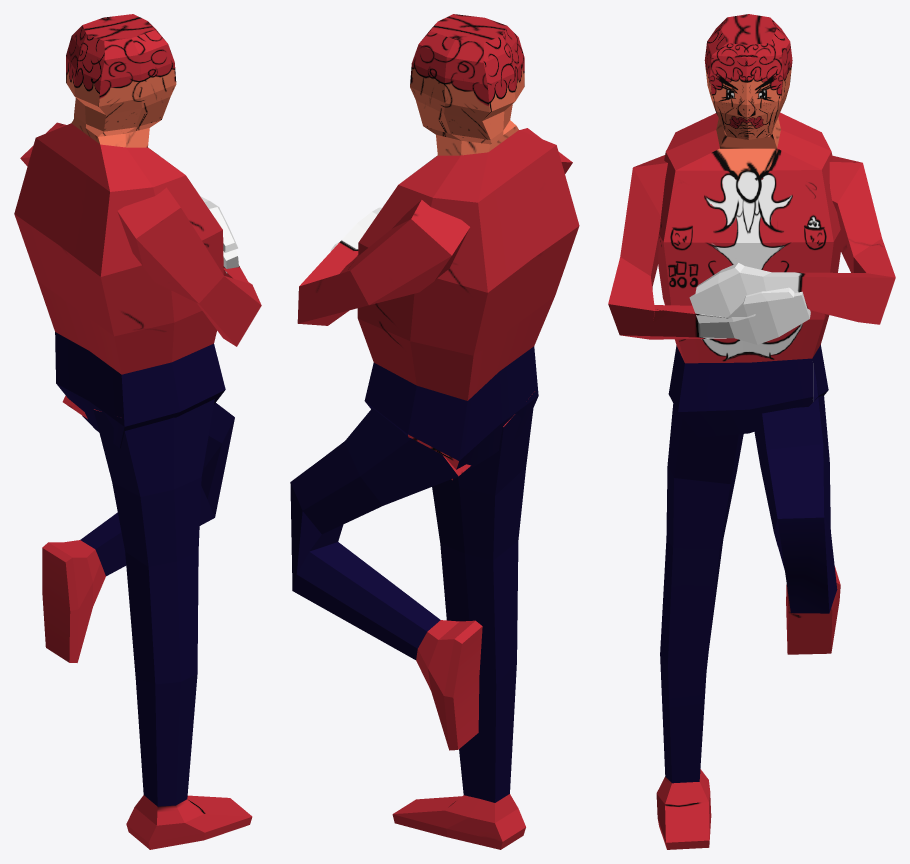
Rendered from BrasCroiseAdosse.fbx.
3 views of the same model, side by side, from view 1: azimuth 30°, elevation 25°; view 2: azimuth 150°, elevation 25°; view 3: azimuth 270°, elevation 25° (orthographic). The views are drawn at different scales.
Parts seen in each view (by area): view 1: Cube.001; view 2: Cube.001; view 3: Cube.001.
Part boxes in pixels (x1=…): Cube.001: x1=14, y1=14, x2=261, y2=849; Cube.001: x1=290, y1=14, x2=579, y2=849; Cube.001: x1=608, y1=14, x2=895, y2=849.
Bounding box in the file's own units: 112 × 439 × 147.
